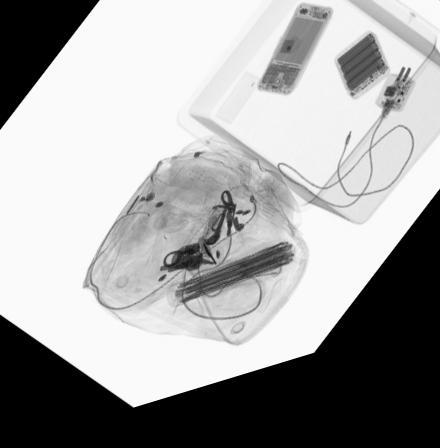Powerbank: (328, 46, 389, 126)
